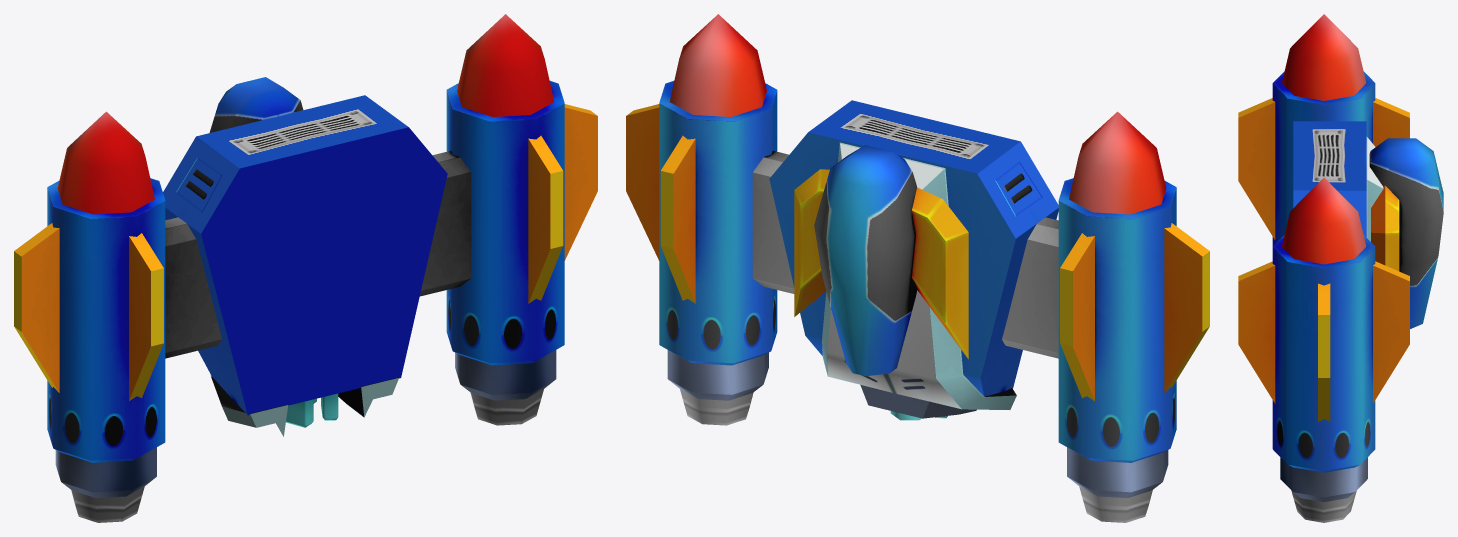
File: Jetpack_DoubleRocket.fbx
3 views of the same model, side by side, from view 1: azimuth 30°, elevation 25°; view 2: azimuth 150°, elevation 25°; view 3: azimuth 270°, elevation 25° (orthographic). The views are drawn at different scales.
Parts seen in each view (by area): view 1: Jetpack_DoubleRocket; view 2: Jetpack_DoubleRocket; view 3: Jetpack_DoubleRocket.
Part boxes in pixels (box(x1,y1,x2,y2)): Jetpack_DoubleRocket: box(14, 14, 597, 522); Jetpack_DoubleRocket: box(626, 14, 1209, 522); Jetpack_DoubleRocket: box(1238, 14, 1443, 522).
Size of the model in its own units: 68.38 by 45.18 by 25.15.
